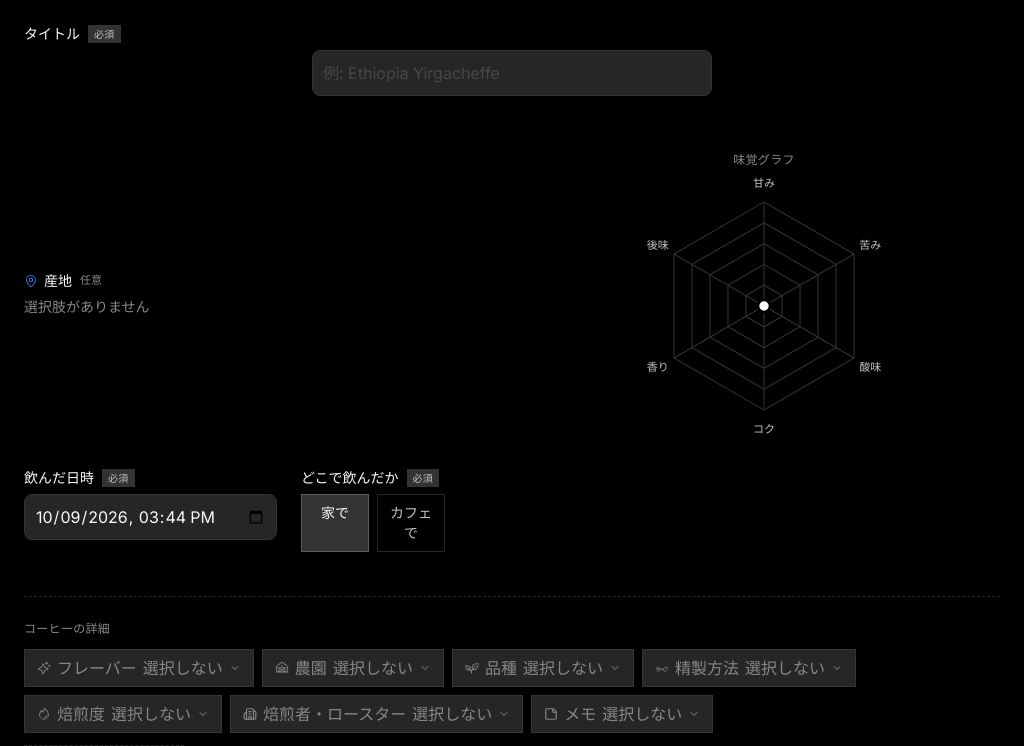
RecordForm › コーヒーの詳細はプロパティボタンとして常時表示され、クリックすると編集できる
Expected: the button "焙煎度 選択しない" is shown, [24,695,222,733]
Expected: the button "焙煎者・ロースター 選択しない" is shown, [230,695,523,733]
# クリックするとその場にポップオーバーが開き、中の入力欄が使える
Click the button "農園 選択しない" at [353, 668], box [262,649,444,687]
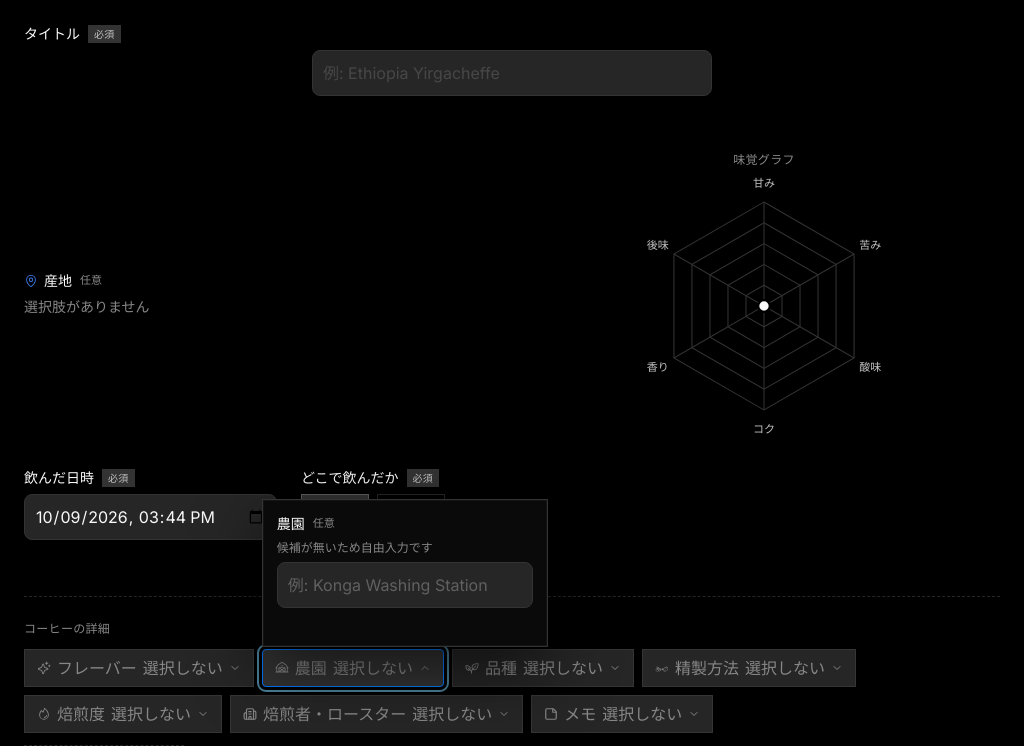
Type "Konga Washing Station" into the field labelled "農園 任意" at [405, 585], box [277,562,533,608]
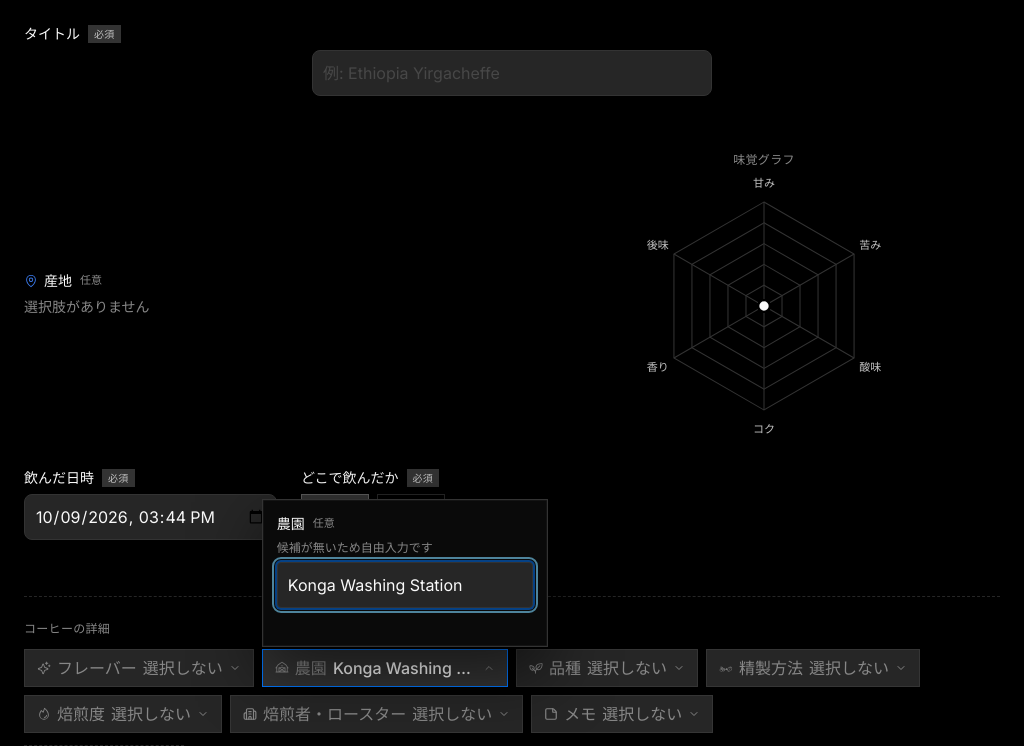
Expected: the button "農園 Konga Washing Station" is shown, [262,649,508,687]
